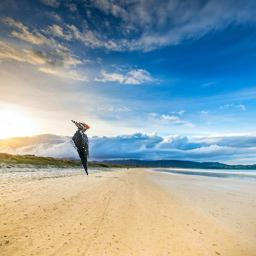Woodpecker: (69, 119, 90, 175)
